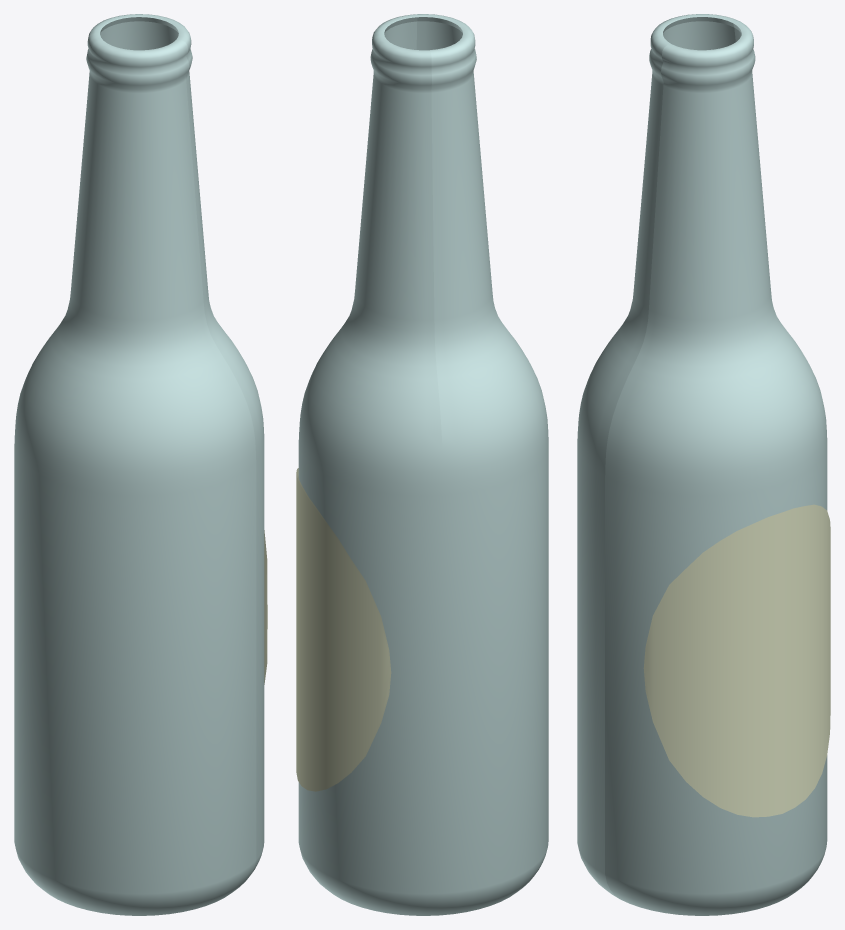
The model's file is Bottle Model.fbx.
The picture shows the model from 3 angles, left to right: view 1: azimuth 30°, elevation 25°; view 2: azimuth 150°, elevation 25°; view 3: azimuth 270°, elevation 25°; orthographic projection.
Parts seen in each view (by area): view 1: Glass, Logo; view 2: Glass, Logo; view 3: Glass, Logo.
Part boxes in pixels (box(x1,y1,x2,y2)): Glass: box(14, 14, 264, 915); Logo: box(264, 530, 267, 684); Glass: box(298, 14, 548, 915); Logo: box(296, 468, 391, 791); Glass: box(577, 14, 827, 915); Logo: box(643, 504, 830, 817).
Size of the model in its own units: 362 by 1326 by 362.
